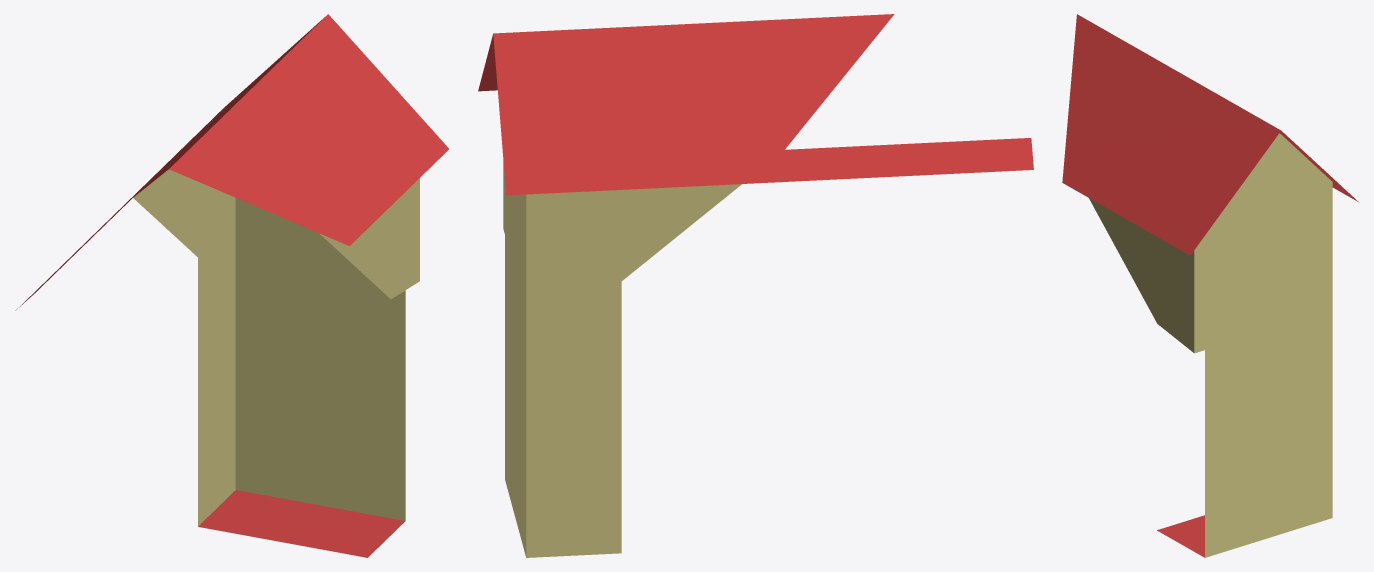
The picture shows the model from 3 angles, left to right: view 1: azimuth 30°, elevation 25°; view 2: azimuth 150°, elevation 25°; view 3: azimuth 270°, elevation 25°; orthographic projection. The views are drawn at different scales.
Size of the model in its own units: 12.64 by 7.7 by 11.83.
